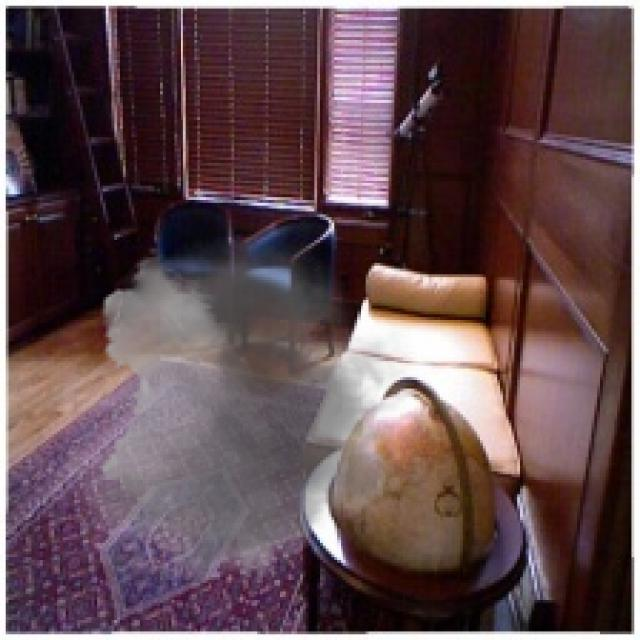smoke: (17, 234, 434, 597)
